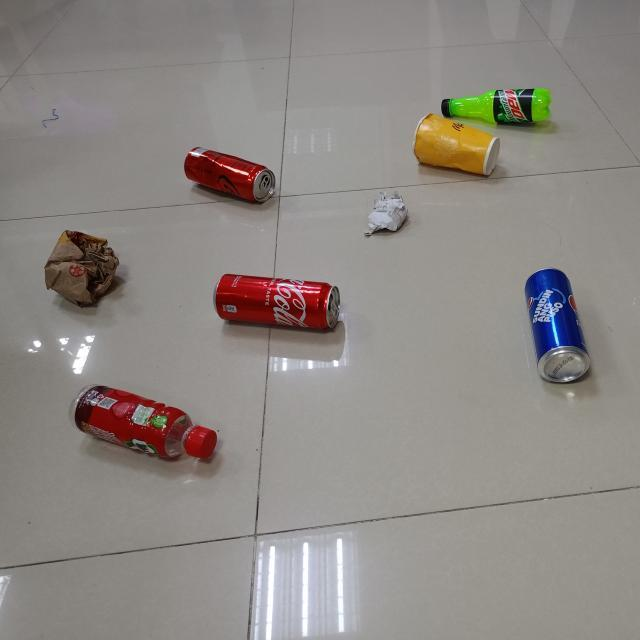recyclable waste: (64, 380, 222, 468), (518, 260, 596, 389), (208, 269, 348, 336), (38, 222, 123, 314), (405, 106, 505, 180), (178, 142, 280, 206), (432, 82, 556, 128), (355, 186, 410, 240)
